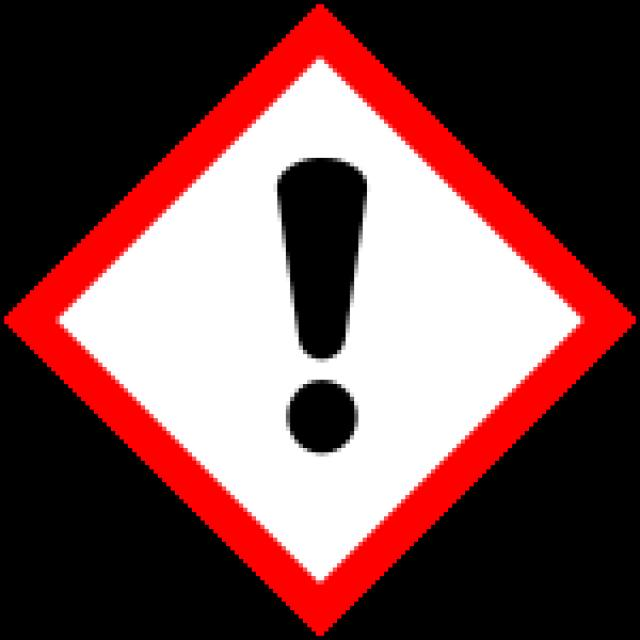GHS07- Health Hazard-Hazardous to Ozone Layer: (4, 4, 640, 640)
